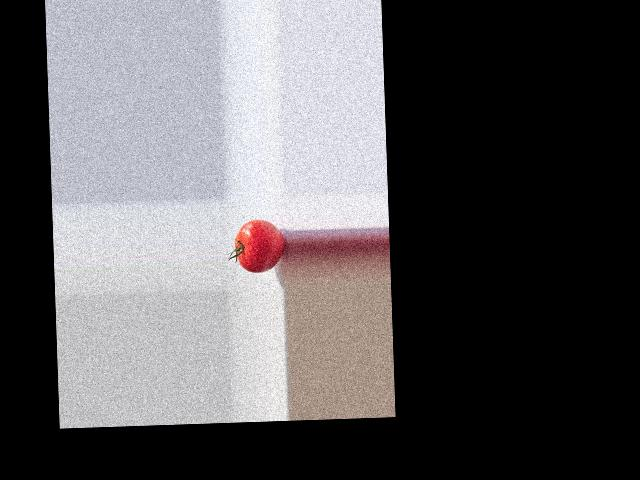tomato: (235, 218, 285, 273)
